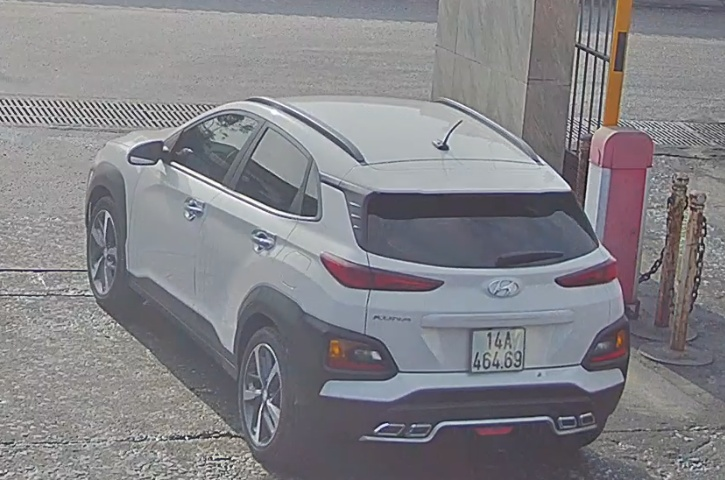vehicle plate: (468, 323, 529, 380)
